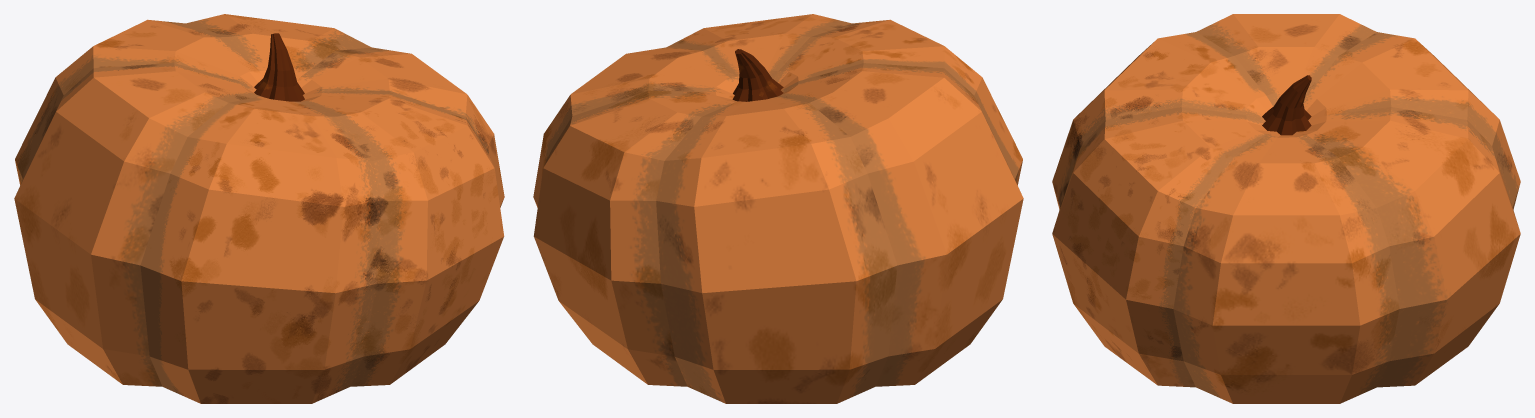
The model's file is Pumpkin007.fbx.
3 views of the same model, side by side, from view 1: azimuth 30°, elevation 25°; view 2: azimuth 150°, elevation 25°; view 3: azimuth 270°, elevation 25° (orthographic). The views are drawn at different scales.
Parts seen in each view (by area): view 1: Pumpkin007; view 2: Pumpkin007; view 3: Pumpkin007.
Boxes of the visible parts, <box> form: Pumpkin007: <box>14,14,504,403</box>; Pumpkin007: <box>533,14,1023,403</box>; Pumpkin007: <box>1052,14,1520,403</box>.
Bounding box in the file's own units: 121 × 81.24 × 123.
